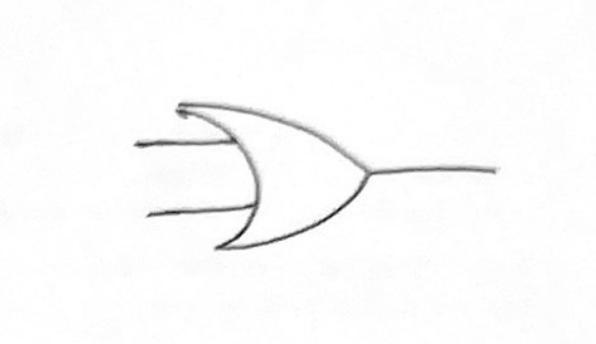OR: (168, 90, 400, 279)
